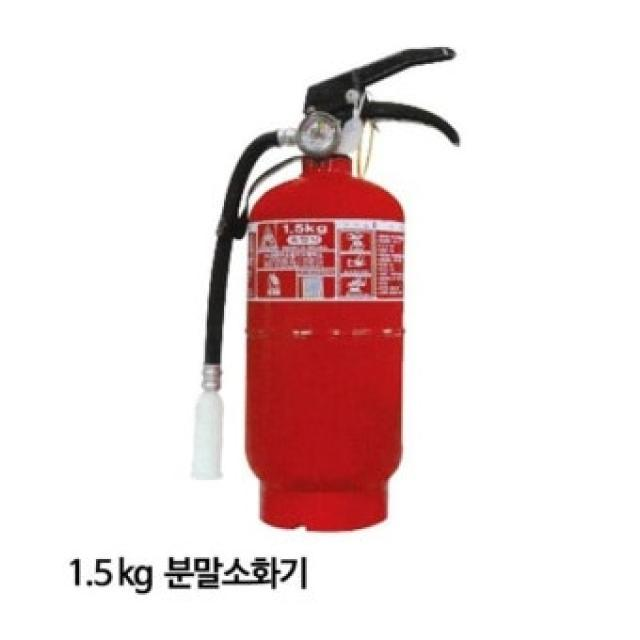pressure gauge: (298, 112, 340, 158)
